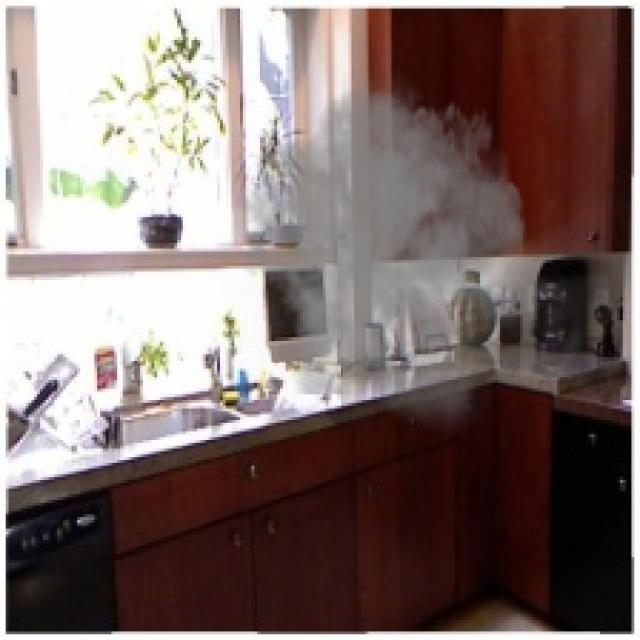smoke: (234, 63, 629, 440)
